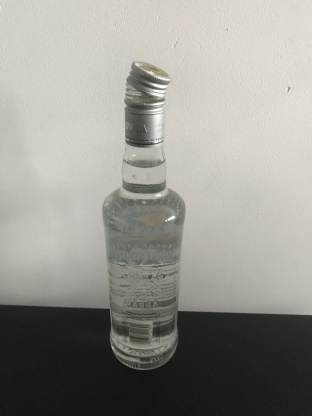nakretka: (122, 58, 172, 147)
